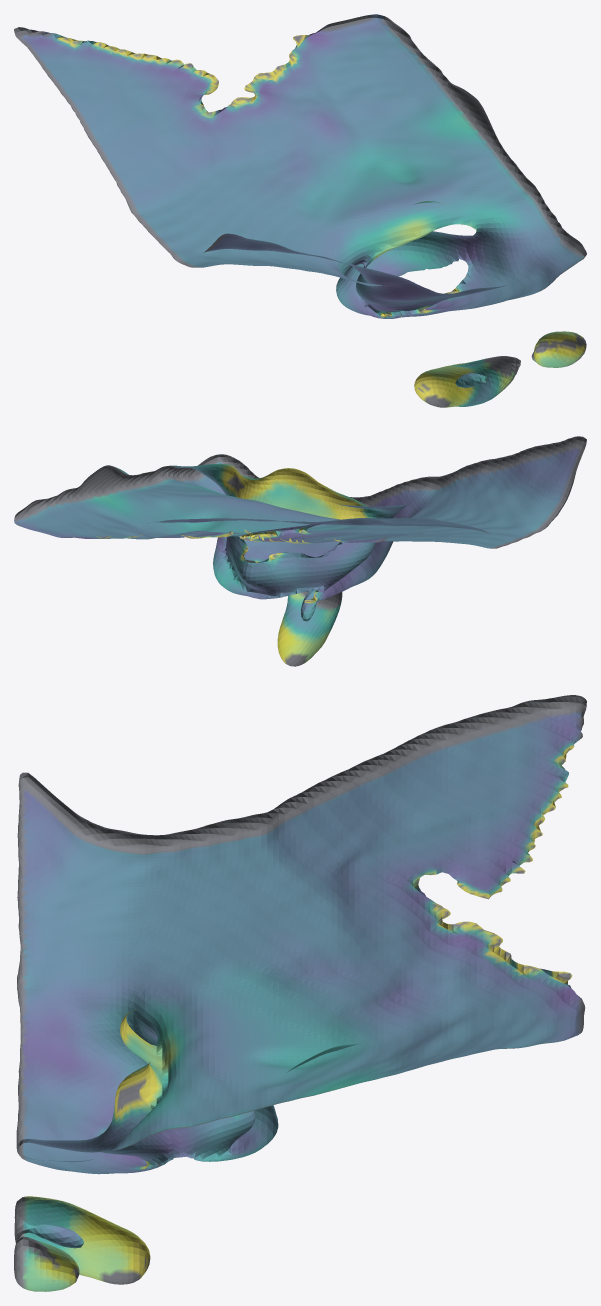
File: crop1151.glb
3 views of the same model, one above another, from view 1: azimuth 30°, elevation 25°; view 2: azimuth 150°, elevation 25°; view 3: azimuth 270°, elevation 25° (orthographic). The views are drawn at different scales.
Parts seen in each view (by area): view 1: geometry_0; view 2: geometry_0; view 3: geometry_0.
Part boxes in pixels (x1,y1,x2,y2): geometry_0: (14,14,586,407); geometry_0: (14,436,586,666); geometry_0: (14,695,586,1291).
Size of the model in its own units: 796 by 641 by 787.
